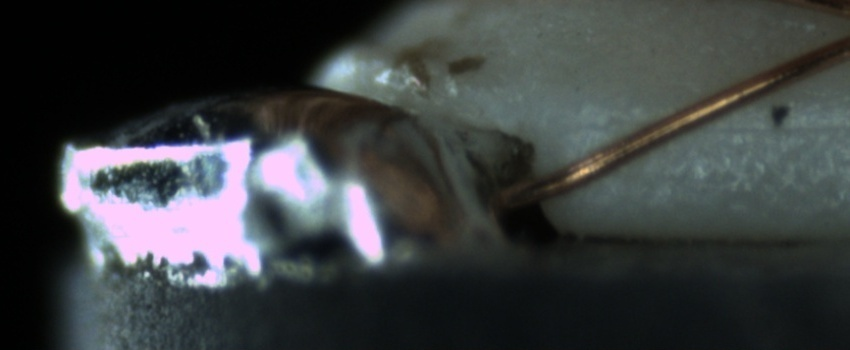DL: (618, 99, 849, 152)
